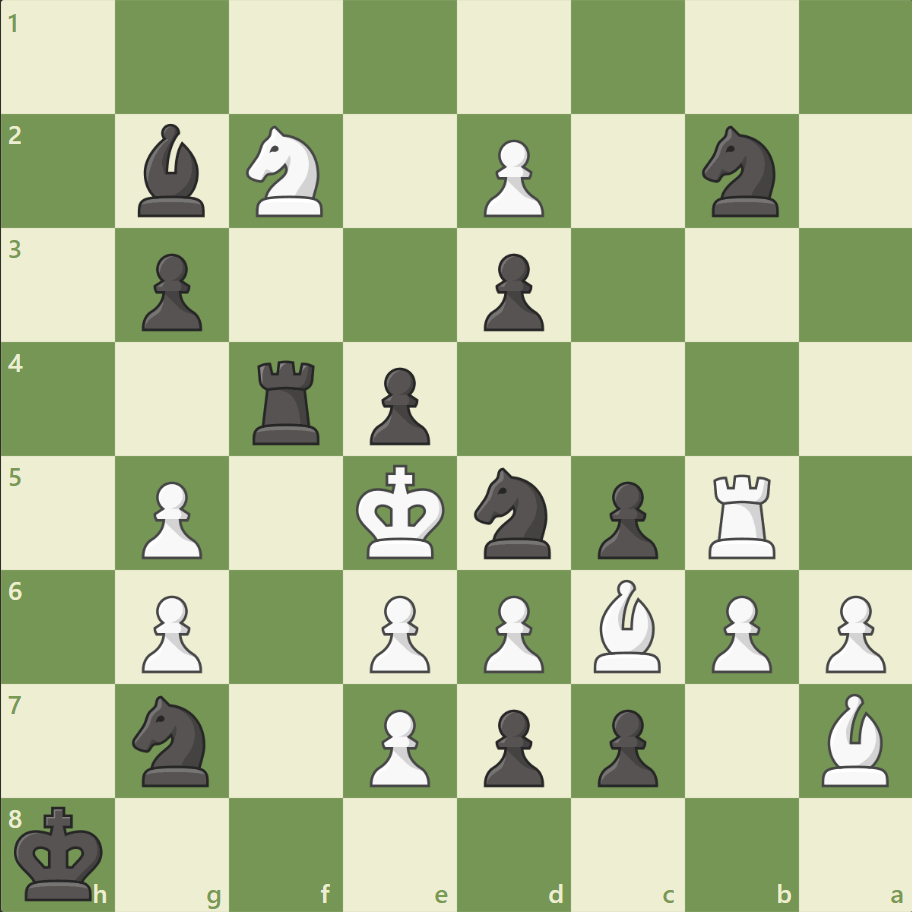B: (812, 687, 896, 790), (585, 574, 669, 676)
K: (351, 458, 451, 566)
N: (238, 121, 335, 223)
P: (701, 586, 776, 677), (474, 586, 549, 677), (133, 586, 208, 677), (133, 473, 208, 564), (474, 132, 549, 223), (361, 700, 435, 791), (815, 586, 889, 677), (361, 586, 435, 677)
R: (700, 466, 783, 563)
b: (131, 120, 215, 222)
k: (11, 798, 111, 906)
n: (124, 688, 222, 791), (465, 461, 562, 564), (692, 121, 789, 223)
p: (474, 700, 549, 791), (474, 246, 549, 337), (133, 246, 208, 337), (588, 700, 662, 791), (588, 473, 662, 564), (361, 359, 435, 450)
r: (246, 352, 329, 449)
